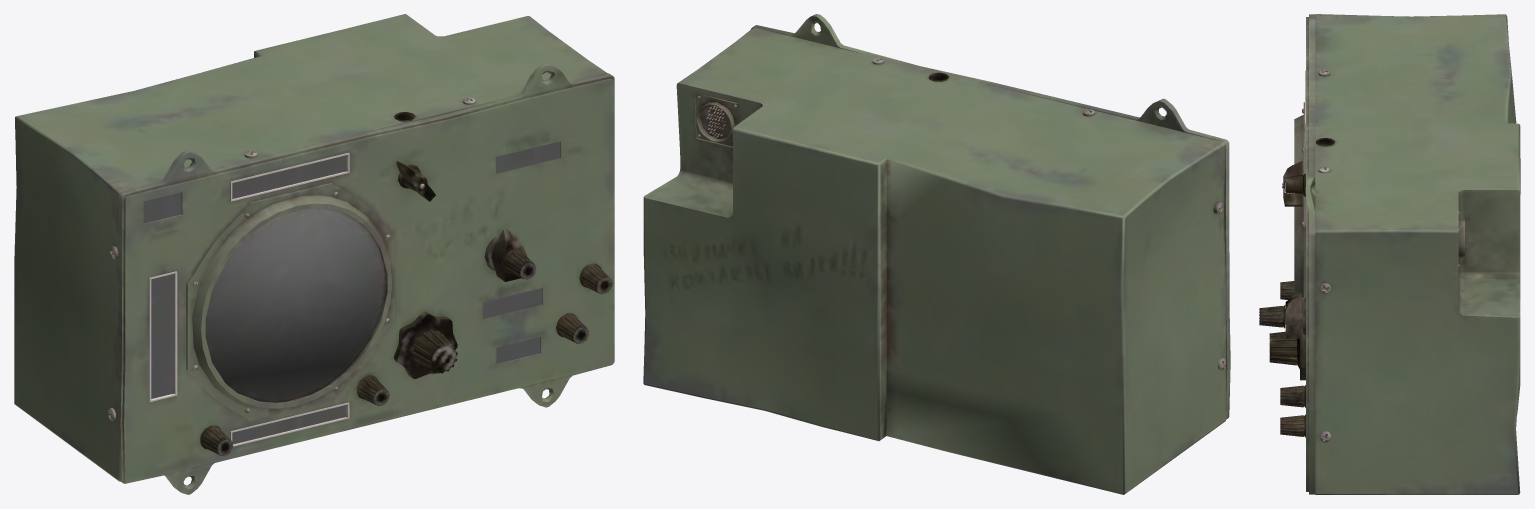
File: vintage_spacecraft_instrument.glb
The picture shows the model from 3 angles, left to right: view 1: azimuth 30°, elevation 25°; view 2: azimuth 150°, elevation 25°; view 3: azimuth 270°, elevation 25°; orthographic projection. The views are drawn at different scales.
Visible parts, largest first — view 1: vintage_spacecraft_instrument; view 2: vintage_spacecraft_instrument; view 3: vintage_spacecraft_instrument.
Boxes of the visible parts, x1=… form: vintage_spacecraft_instrument: x1=14, y1=14, x2=614, y2=494; vintage_spacecraft_instrument: x1=643, y1=14, x2=1230, y2=494; vintage_spacecraft_instrument: x1=1259, y1=14, x2=1520, y2=494.
Size of the model in its own units: 0.4103 by 0.2693 by 0.2044.
2 materials, 2 textured.
